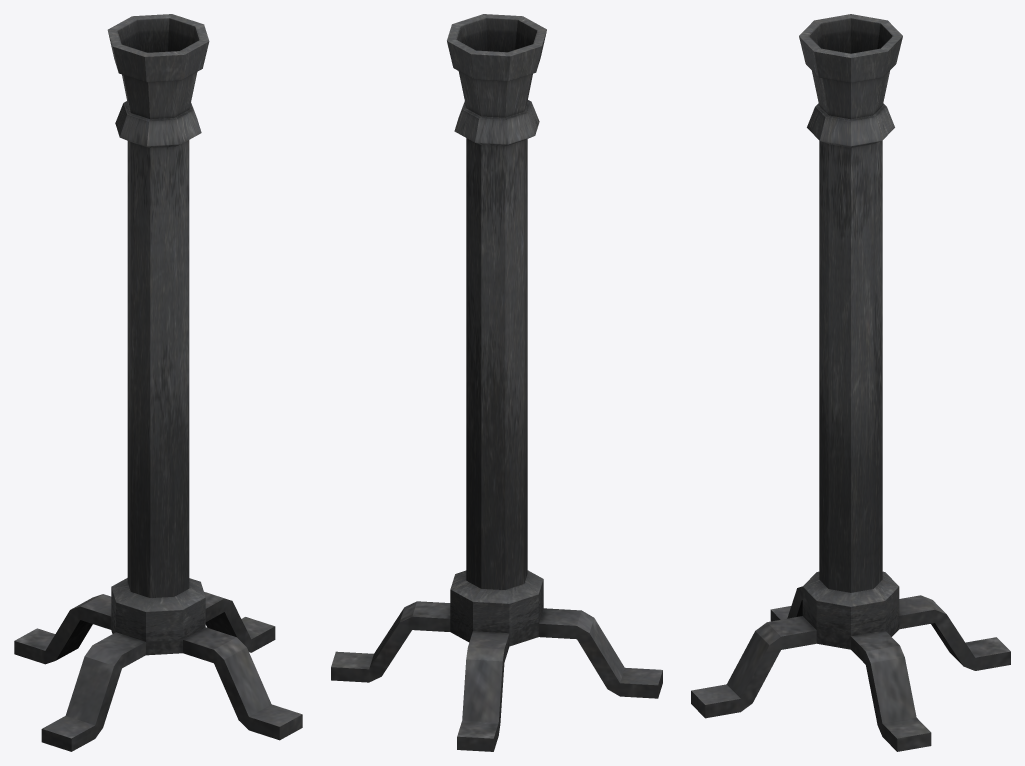
The model's file is bg_torch_textured.fbx.
3 renders of one model, left to right at view 1: azimuth 30°, elevation 25°; view 2: azimuth 150°, elevation 25°; view 3: azimuth 270°, elevation 25°, orthographic.
Parts seen in each view (by area): view 1: pCylinder1; view 2: pCylinder1; view 3: pCylinder1.
Boxes of the visible parts, box(x1,y1,x2,y2) form: pCylinder1: box(14, 14, 302, 751); pCylinder1: box(331, 14, 662, 751); pCylinder1: box(691, 14, 1010, 751).
Bounding box in the file's own units: 0.4146 × 0.9275 × 0.4146.
1 material, 1 textured.
